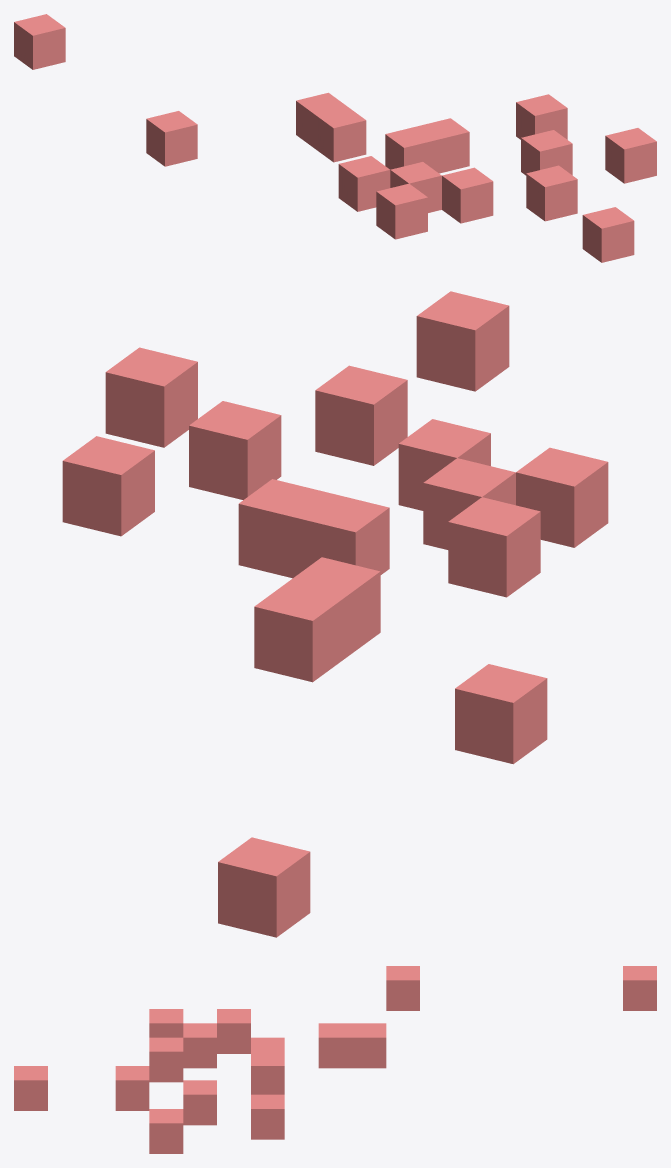
Rendered from map.glb.
3 views of the same model, one above another, from view 1: azimuth 30°, elevation 25°; view 2: azimuth 150°, elevation 25°; view 3: azimuth 270°, elevation 25° (orthographic). The views are drawn at different scales.
Size of the model in its own units: 11 by 1 by 19.
